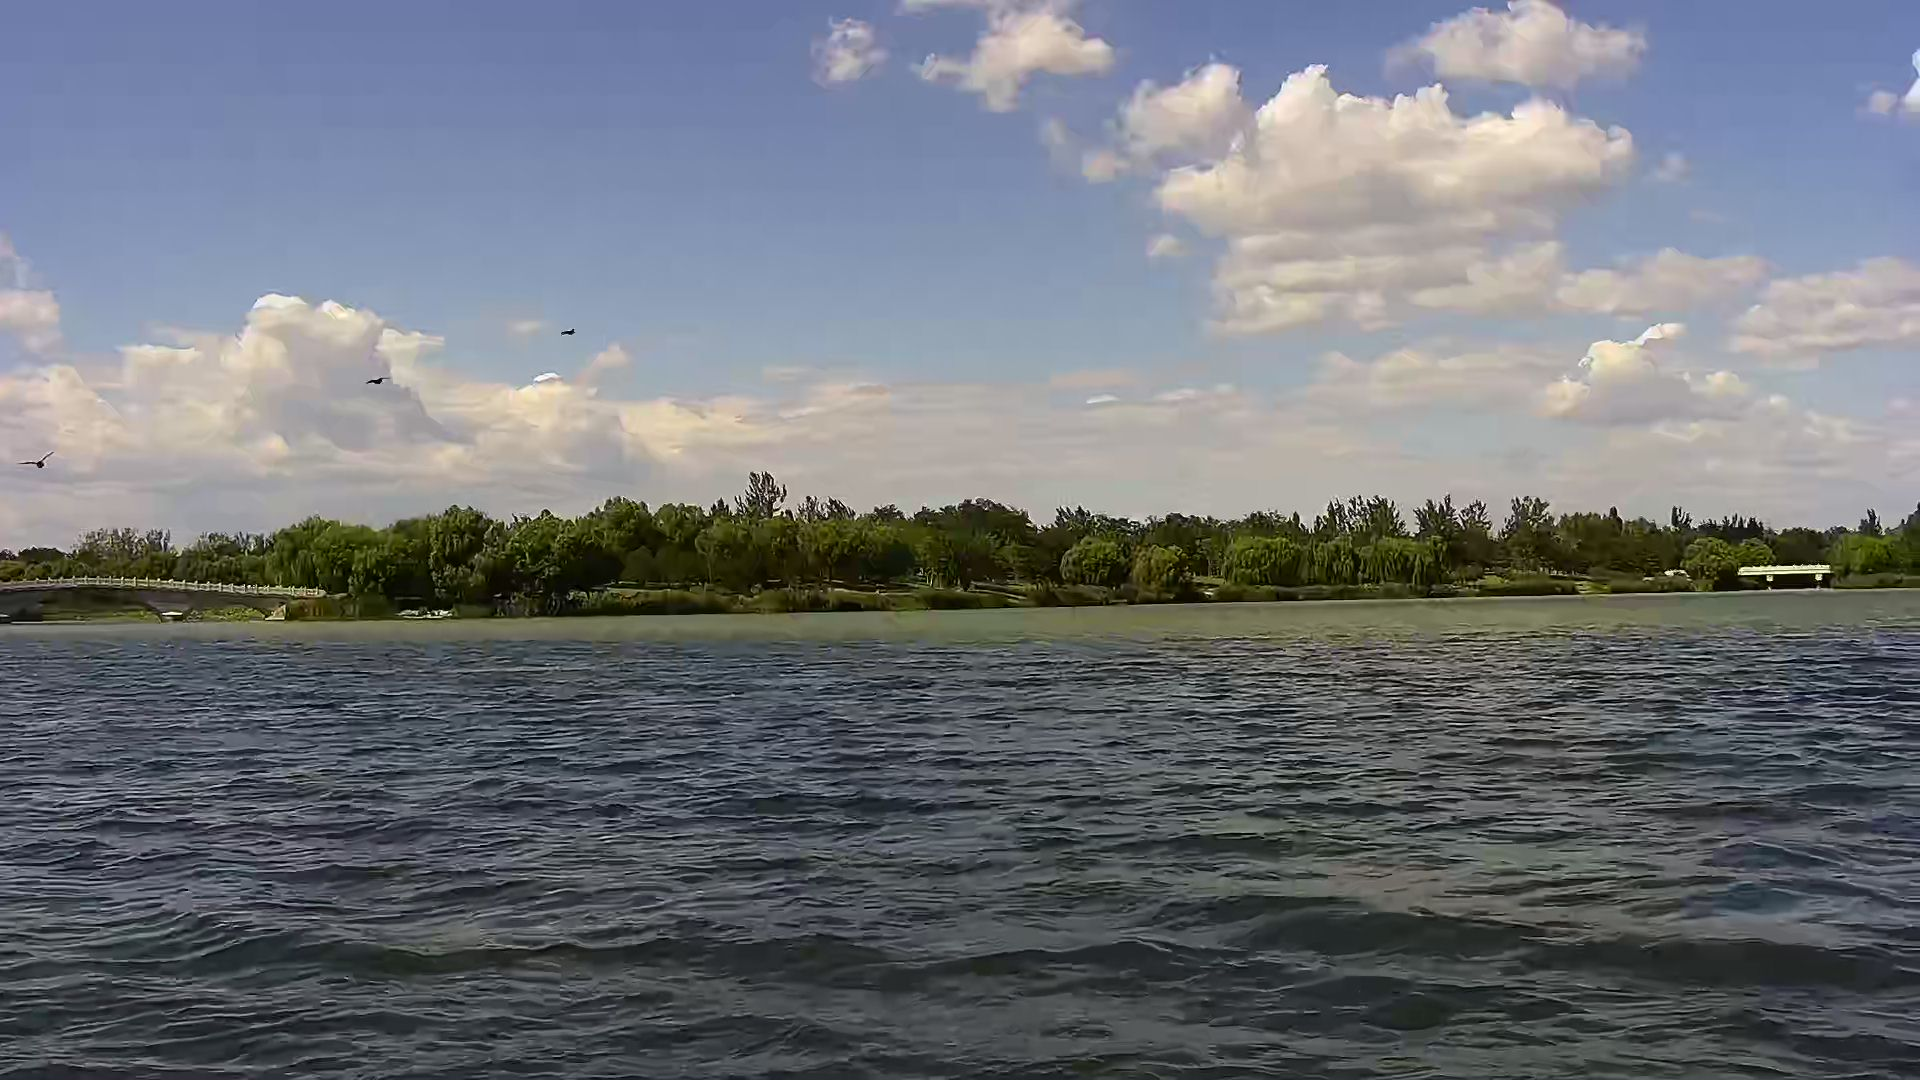bridge: (1, 570, 328, 629), (1731, 553, 1836, 603)
